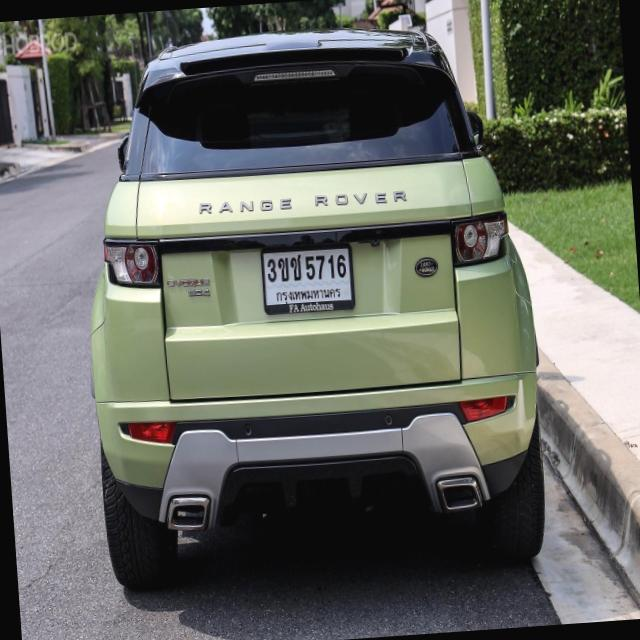license_plate: (257, 239, 356, 318)
